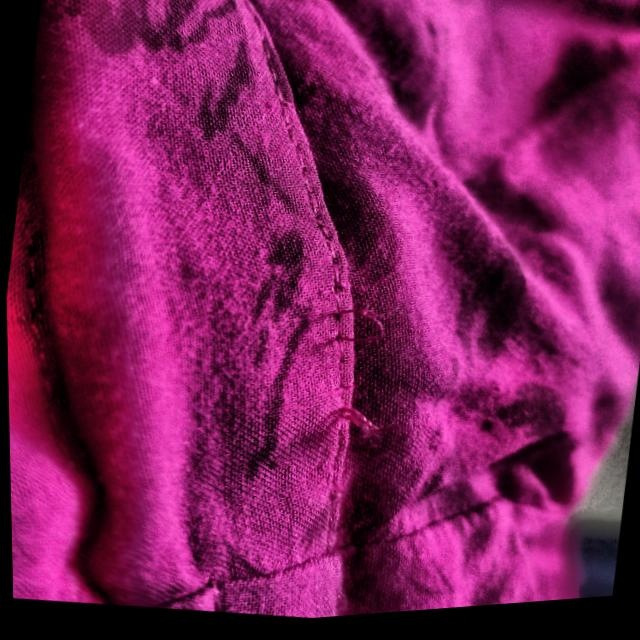Stitch: (293, 379, 416, 492), (302, 270, 416, 377), (304, 386, 407, 478), (314, 279, 410, 369)
